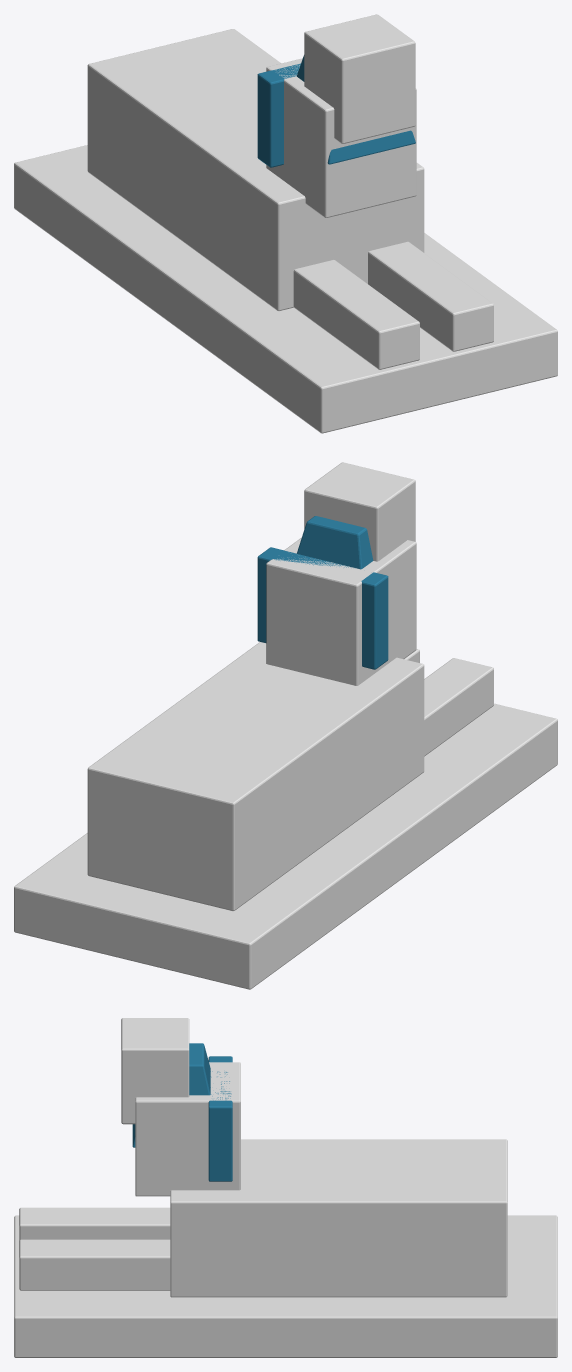
File: egipto_sphinx.fbx
The picture shows the model from 3 angles, top to bottom: view 1: azimuth 30°, elevation 25°; view 2: azimuth 150°, elevation 25°; view 3: azimuth 270°, elevation 25°; orthographic projection. The views are drawn at different scales.
Visible parts, largest first — view 1: egipto_sphinx; view 2: egipto_sphinx; view 3: egipto_sphinx.
Part boxes in pixels (x1=…): egipto_sphinx: x1=14, y1=14, x2=557, y2=433; egipto_sphinx: x1=14, y1=462, x2=557, y2=989; egipto_sphinx: x1=14, y1=1018, x2=557, y2=1357.
Size of the model in its own units: 1.6 by 2 by 3.6.
